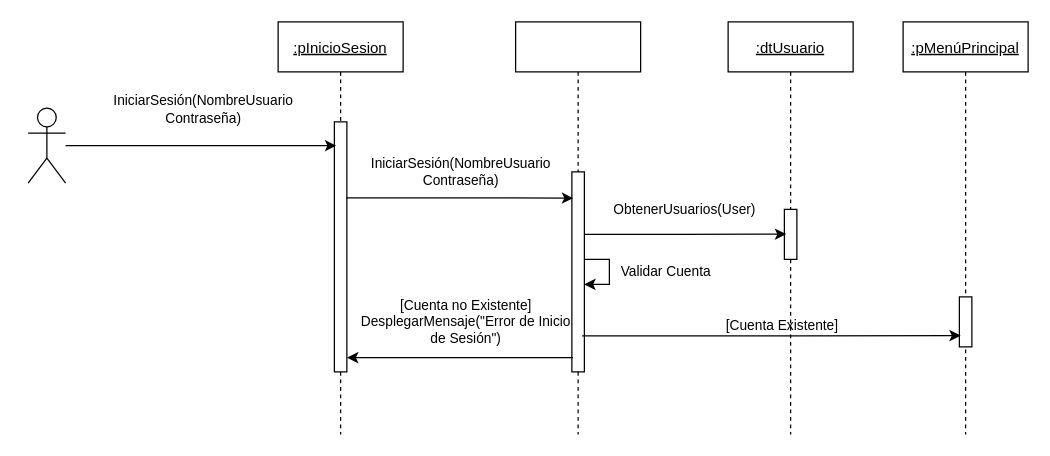
Some shapes in this 1050 by 456 pixel diagram are drawn without their labels. Each missing label, with the box of its shape:
:ctrlIngreso: (514, 21, 641, 434)
Usuario: (27, 107, 66, 183)
